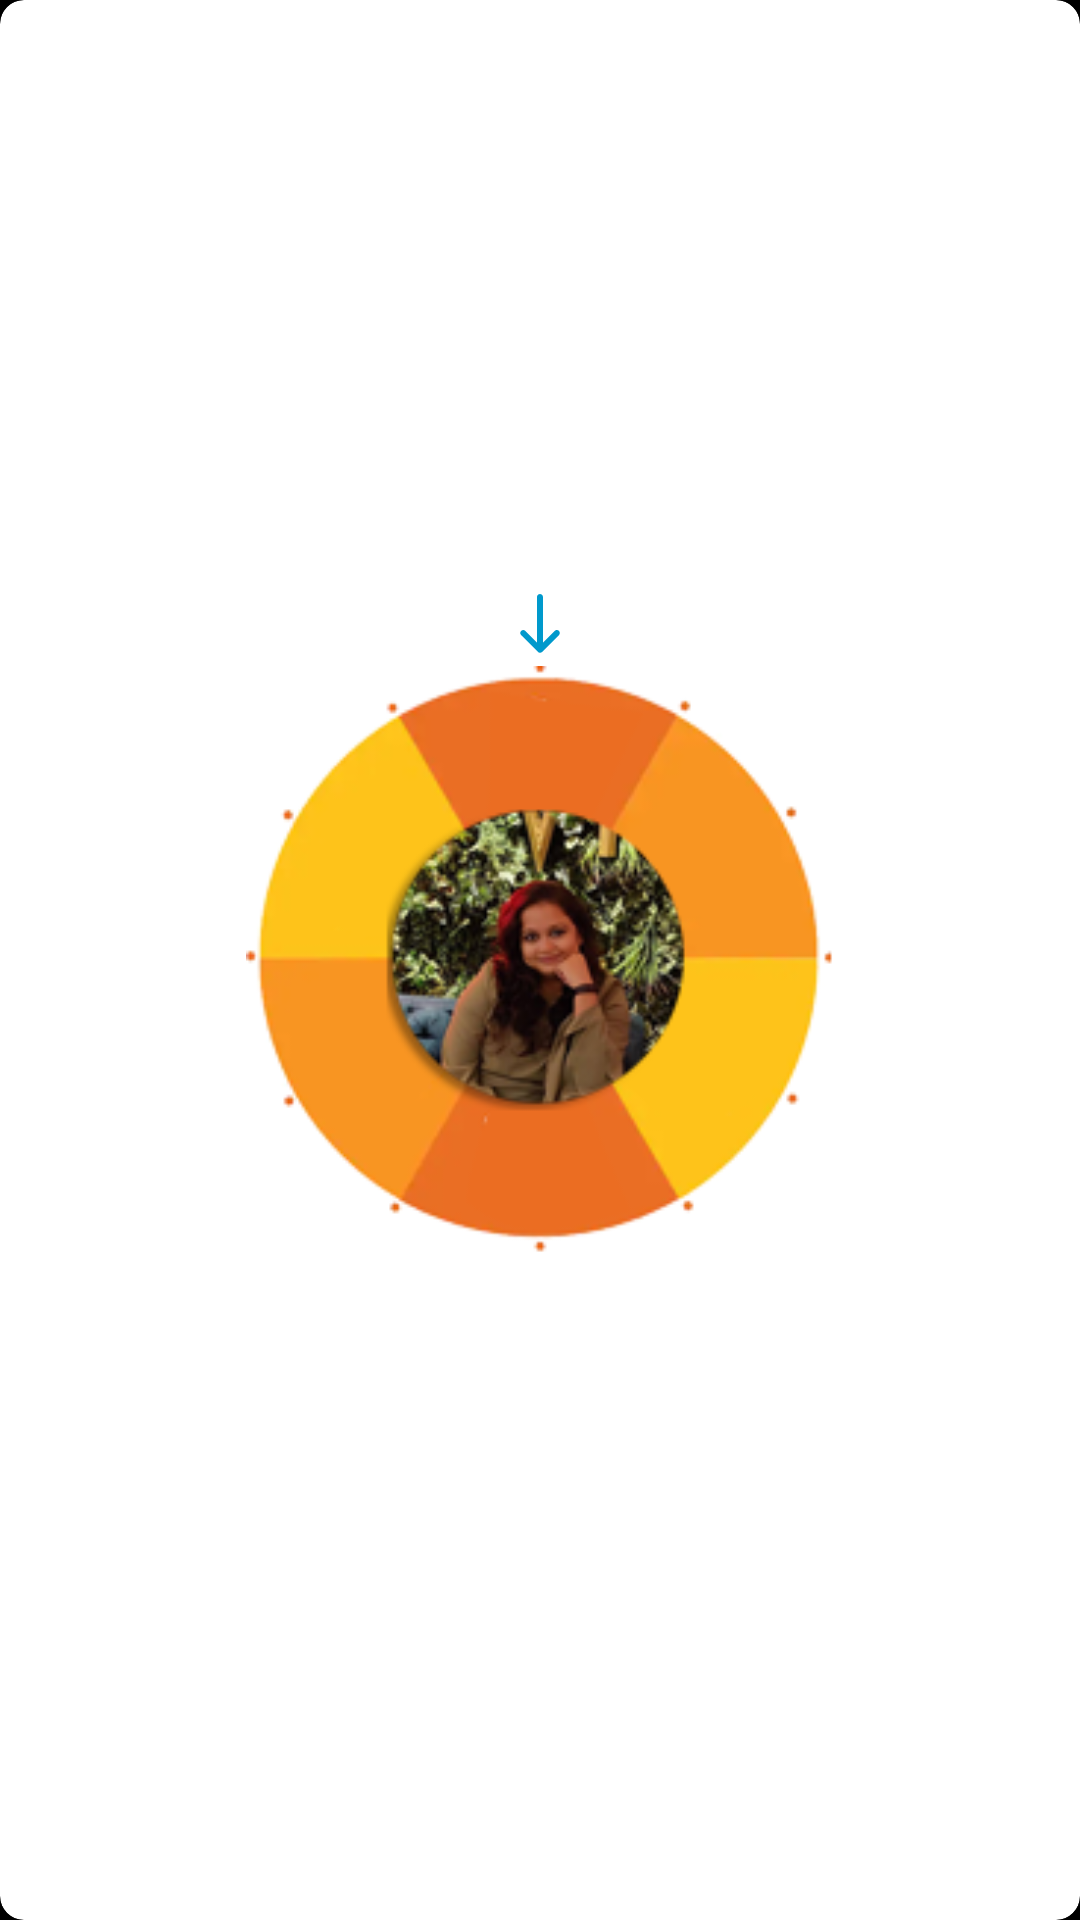

Icons on this 1080px×1920px Android screen, each with the point to tap as (x,y):
south: (540,623)
